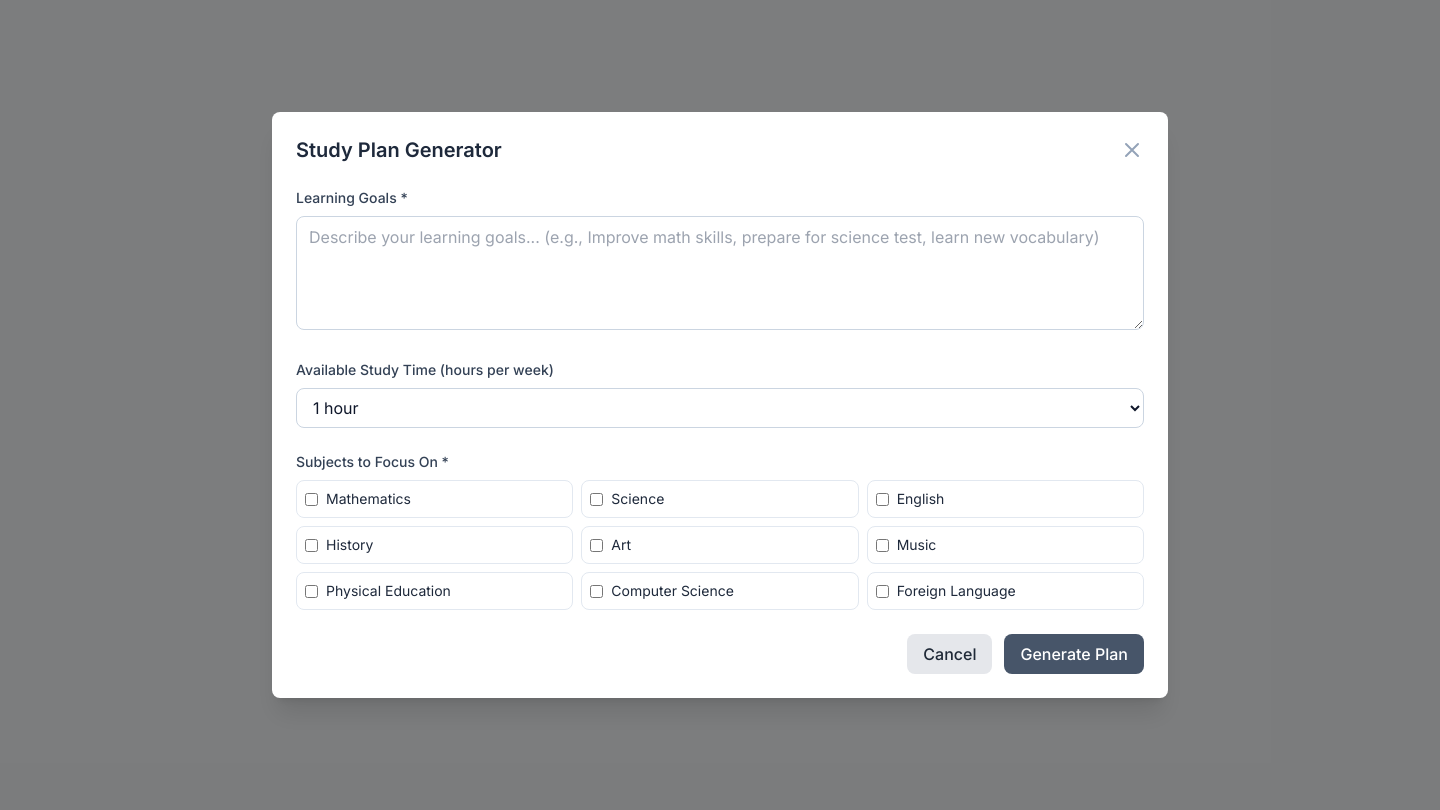
Test: LMS Platform Test Suite › AI Study Plan Component › should show validation error when goals are empty
This screenshot has width=1440, height=810.
Click the button "Generate Plan".
click(1074, 654)  # box [1004, 634, 1144, 674]
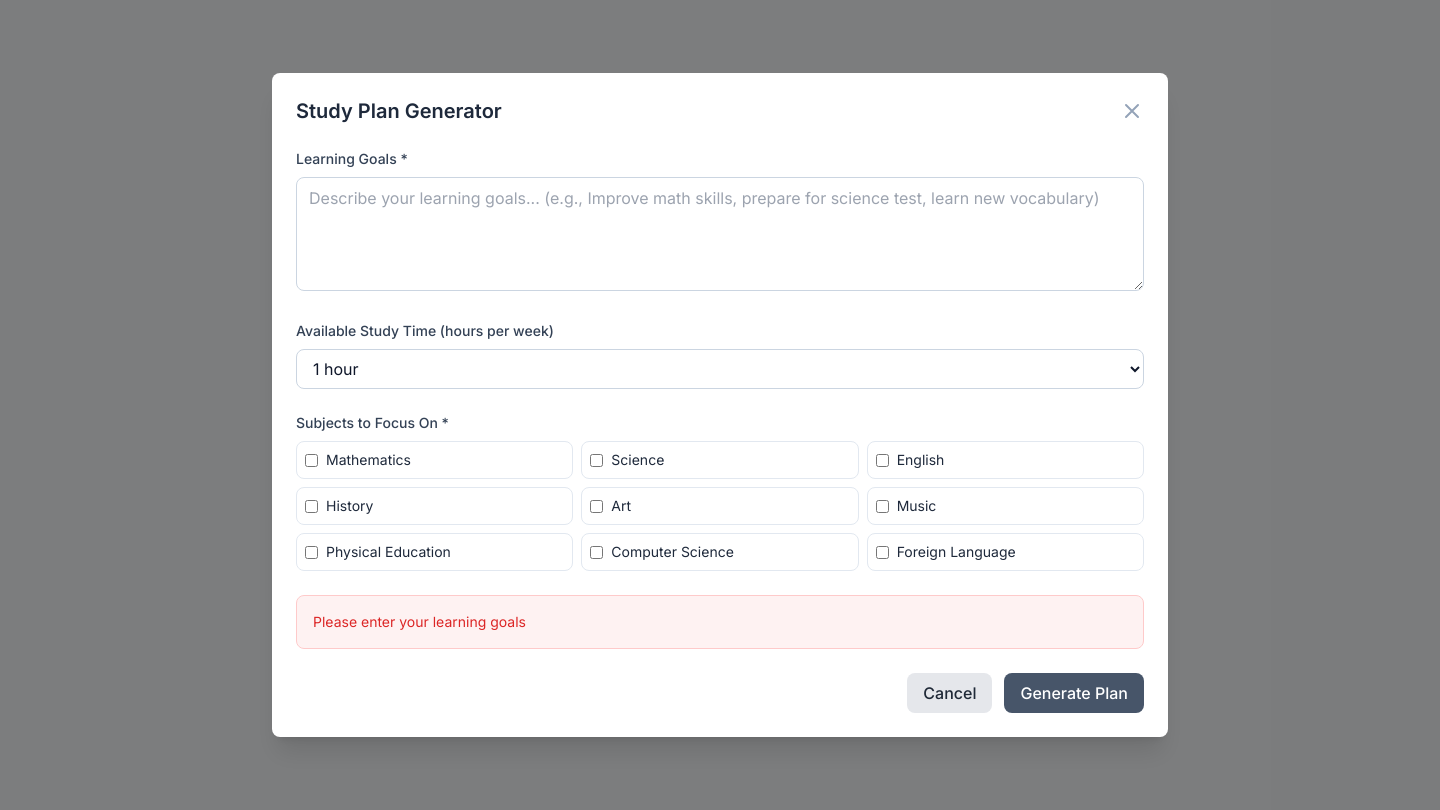
Now the text "Please enter your learning goals" is shown, box [313, 613, 526, 630]
